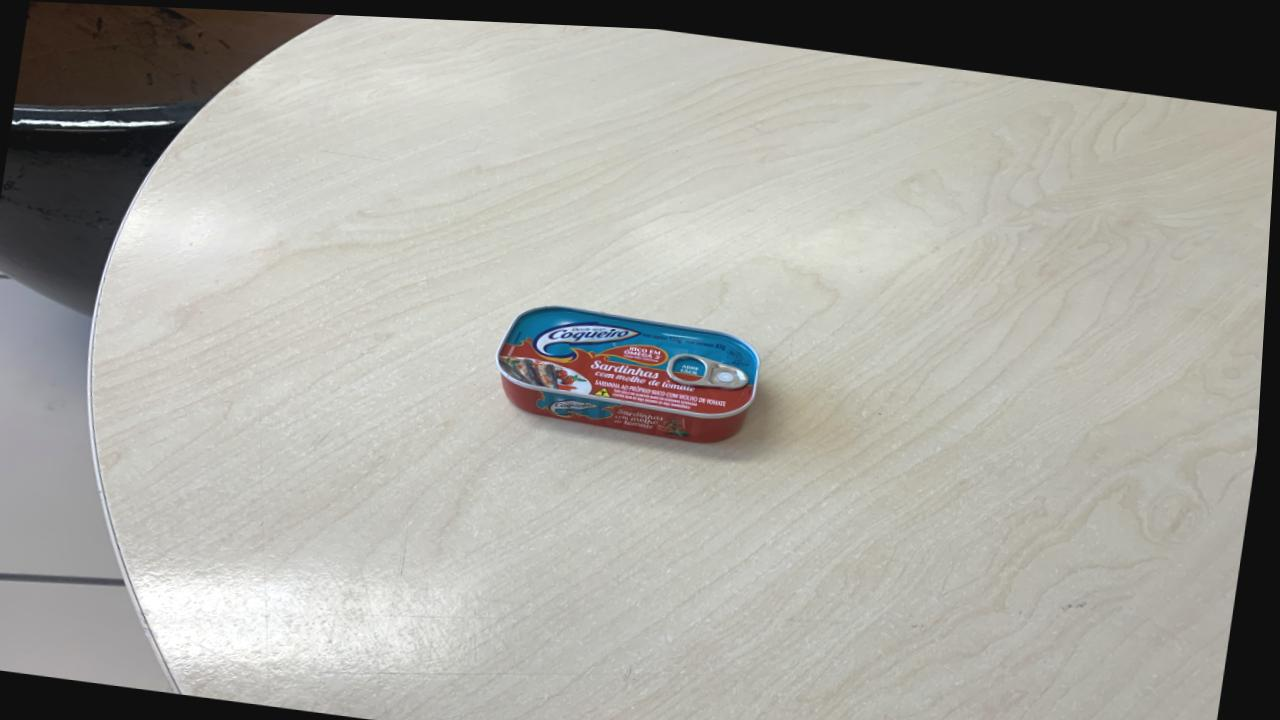Tuna_Can-Pantry_Items: (499, 301, 766, 439)
